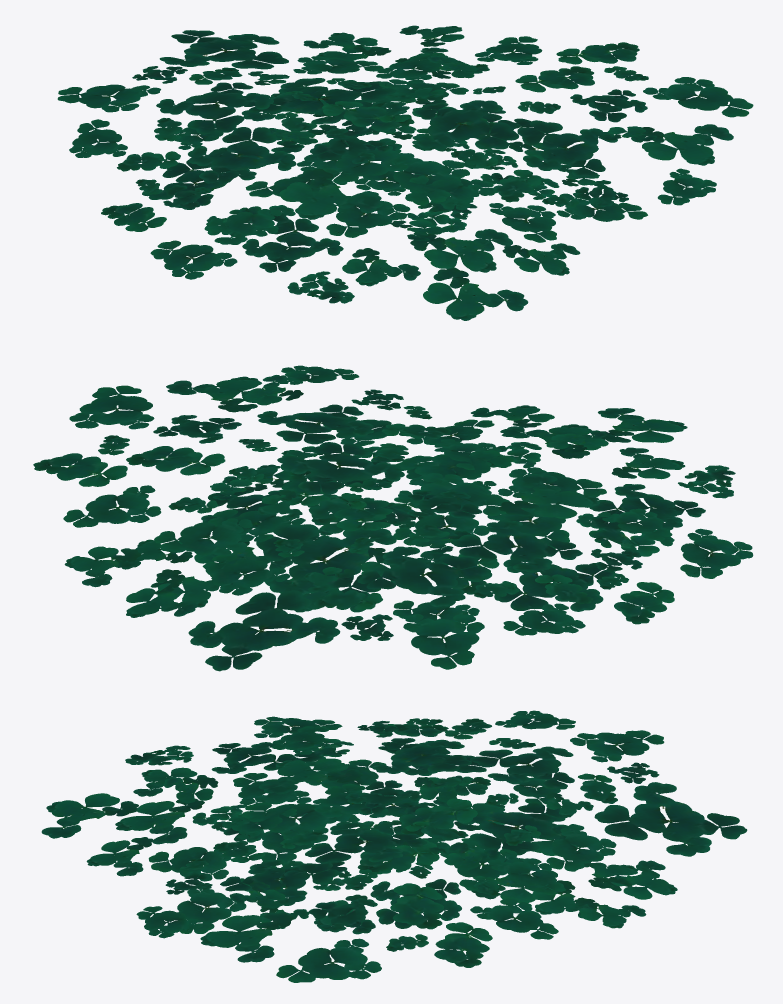
The picture shows the model from 3 angles, top to bottom: view 1: azimuth 30°, elevation 25°; view 2: azimuth 150°, elevation 25°; view 3: azimuth 270°, elevation 25°; orthographic projection. The views are drawn at different scales.
Visible parts, largest first — view 1: SM_BM_WoodlandsSorrel_01_B_LOD0; view 2: SM_BM_WoodlandsSorrel_01_B_LOD0; view 3: SM_BM_WoodlandsSorrel_01_B_LOD0.
Boxes of the visible parts, x1,y1,x2,y2 form: SM_BM_WoodlandsSorrel_01_B_LOD0: [57, 25, 753, 320]; SM_BM_WoodlandsSorrel_01_B_LOD0: [33, 365, 753, 671]; SM_BM_WoodlandsSorrel_01_B_LOD0: [41, 710, 747, 982].
Bounding box in the file's own units: 1.2 × 0.1087 × 1.29.
1 material, 1 textured.
